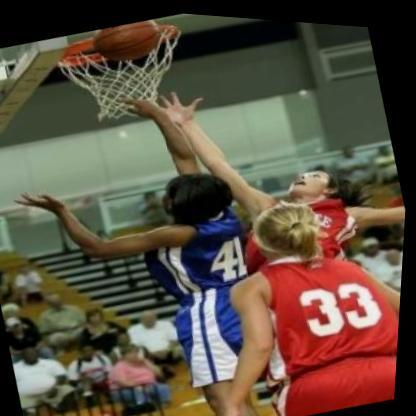basketball: (83, 9, 173, 74)
